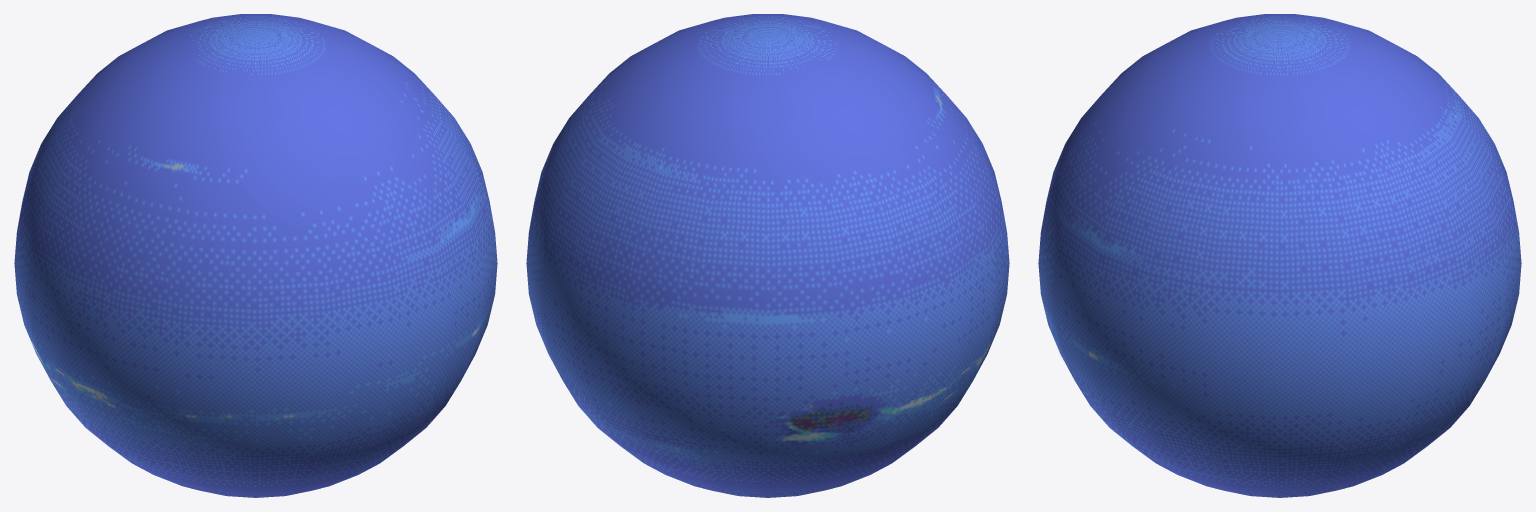
Rendered from neptune.fbx.
3 renders of one model, left to right at view 1: azimuth 30°, elevation 25°; view 2: azimuth 150°, elevation 25°; view 3: azimuth 270°, elevation 25°, orthographic.
Visible parts, largest first — view 1: pSphere5; view 2: pSphere5; view 3: pSphere5.
Boxes of the visible parts, x1,y1,x2,y2 form: pSphere5: [14, 14, 497, 497]; pSphere5: [526, 14, 1009, 497]; pSphere5: [1038, 14, 1521, 497].
Bounding box in the file's own units: 117 × 117 × 117.
Materials: 1 (1 with a texture image).
